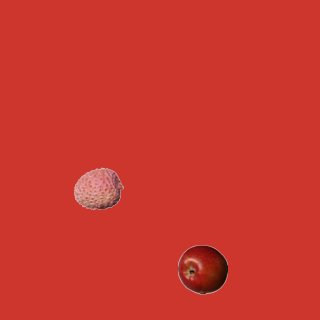Apple Braeburn: (177, 244, 227, 294)
Lychee: (73, 163, 123, 213)
